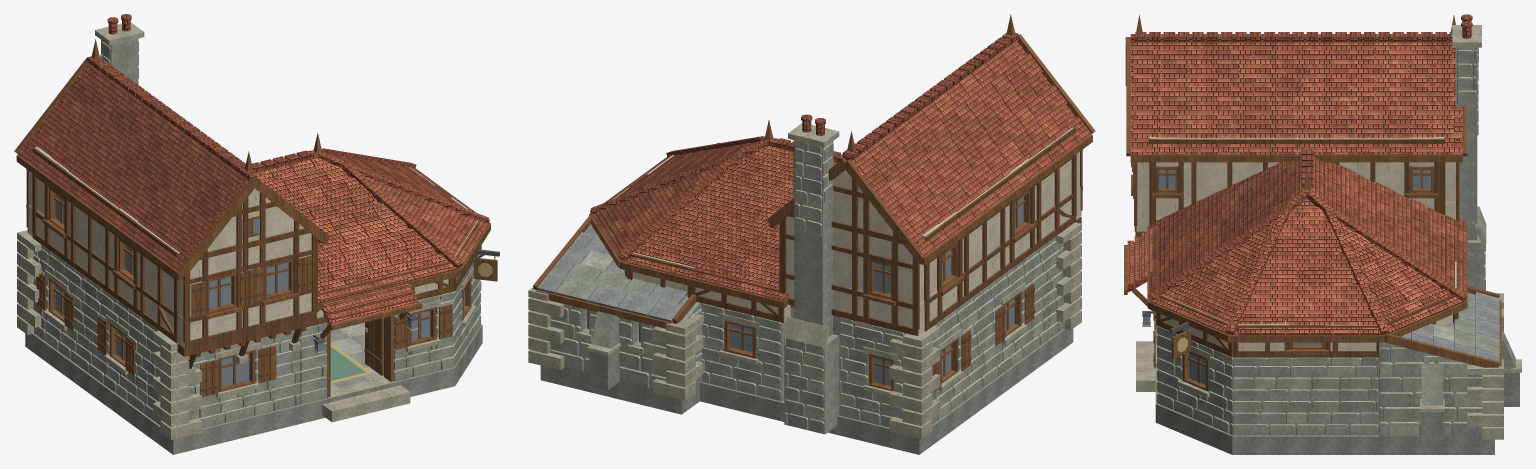
Rendered from bank.glb.
3 renders of one model, left to right at view 1: azimuth 30°, elevation 25°; view 2: azimuth 150°, elevation 25°; view 3: azimuth 270°, elevation 25°, orthographic. The views are drawn at different scales.
Visible parts, largest first — view 1: Bank_RoofTiles, Bank_ShellFacing, Bank_UpperShellTimber, Bank_RoofTrim, Bank_UpperShell, Bank_FloorPlinth, Bank_ShellWindows, Bank_ShellQuoins, Bank_UpperShellWindows, Bank_RoofHood, Bank_UpperChimney, Bank_ShellStone (+10 smaller); view 2: Bank_RoofTiles, Bank_ShellFacing, Bank_RoofTrim, Bank_ShellQuoins, Bank_UpperShellTimber, Bank_UpperShell, Bank_FloorPlinth, Bank_UpperChimney, Bank_ShellChimneyBase, Bank_RoofSlabStones, Bank_ShellWindows, Bank_ShellStone (+6 smaller); view 3: Bank_RoofTiles, Bank_ShellFacing, Bank_RoofTrim, Bank_FloorPlinth, Bank_ShellStone, Bank_UpperShell, Bank_UpperShellTimber, Bank_UpperChimney, Bank_RoofSlabStones, Bank_ShellFriezeTimber, Bank_RoofSlab, Bank_ShellQuoins (+9 smaller).
Part boxes in pixels (x1,y1,x2,y2): Bank_RoofTiles: (18,62,488,303); Bank_ShellFacing: (26,232,481,428); Bank_UpperShellTimber: (26,142,318,348); Bank_RoofTrim: (14,39,490,310); Bank_UpperShell: (28,146,311,347); Bank_FloorPlinth: (25,324,482,454); Bank_ShellWindows: (36,267,476,398); Bank_ShellQuoins: (17,230,201,439); Bank_UpperShellWindows: (42,187,312,319); Bank_RoofHood: (319,277,422,330); Bank_UpperChimney: (95,14,144,85); Bank_ShellStone: (37,248,477,428); Bank_RoofTiles: (591,39,1091,300); Bank_ShellFacing: (549,237,1065,427); Bank_RoofTrim: (533,14,1095,328); Bank_ShellQuoins: (528,222,1081,439); Bank_UpperShellTimber: (779,122,1082,335); Bank_UpperShell: (786,127,1080,335); Bank_FloorPlinth: (540,328,1073,454); Bank_UpperChimney: (788,114,839,321); Bank_ShellChimneyBase: (783,315,839,434); Bank_RoofSlabStones: (537,232,687,322); Bank_ShellWindows: (575,282,1034,396); Bank_ShellStone: (552,240,1062,425); Bank_RoofTiles: (1131,42,1465,335); Bank_ShellFacing: (1156,326,1482,436); Bank_RoofTrim: (1125,14,1501,367); Bank_FloorPlinth: (1155,329,1494,454); Bank_ShellStone: (1158,331,1519,446); Bank_UpperShell: (1136,136,1455,231); Bank_UpperShellTimber: (1134,84,1459,231); Bank_UpperChimney: (1452,14,1481,220); Bank_RoofSlabStones: (1411,292,1499,361); Bank_ShellFriezeTimber: (1155,220,1459,357); Bank_RoofSlab: (1130,43,1474,365); Bank_ShellQuoins: (1420,293,1521,439).
Size of the model in its own units: 12.43 by 9.58 by 11.13.
Materials: 24 (17 with a texture image).
